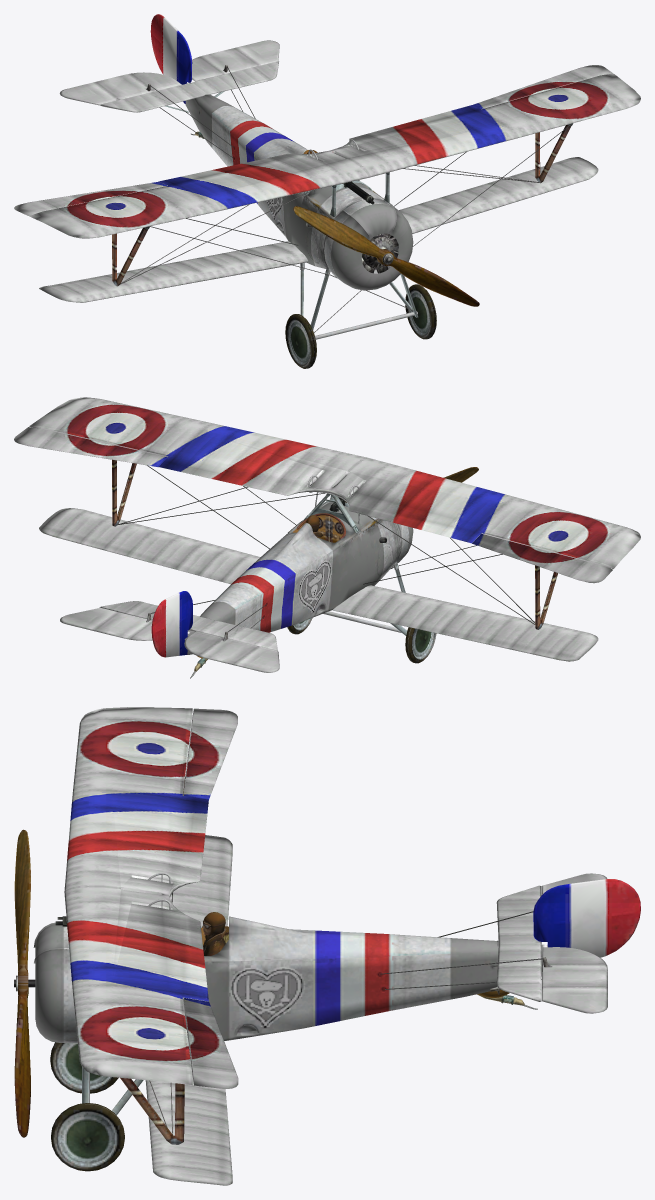
The model's file is nieuport17.glb.
The picture shows the model from 3 angles, top to bottom: view 1: azimuth 30°, elevation 25°; view 2: azimuth 150°, elevation 25°; view 3: azimuth 270°, elevation 25°; orthographic projection. The views are drawn at different scales.
Visible parts, largest first — view 1: nieuport17; view 2: nieuport17; view 3: nieuport17.
Boxes of the visible parts, bbox=[...] form: nieuport17: bbox=[14, 14, 640, 368]; nieuport17: bbox=[14, 397, 640, 678]; nieuport17: bbox=[14, 707, 640, 1185].
Bounding box in the file's own units: 1 × 0.311 × 0.6991.
Materials: 3 (3 with a texture image).
